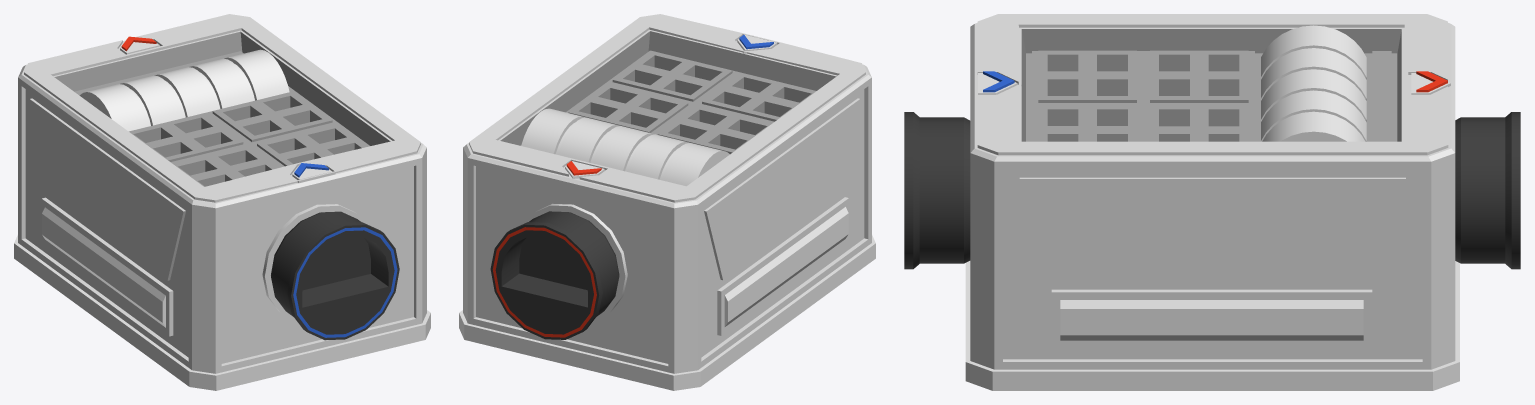
File: MagneticSeperator.fbx
3 views of the same model, side by side, from view 1: azimuth 30°, elevation 25°; view 2: azimuth 150°, elevation 25°; view 3: azimuth 270°, elevation 25° (orthographic). The views are drawn at different scales.
Parts seen in each view (by area): view 1: Magnetic Seperator; view 2: Magnetic Seperator; view 3: Magnetic Seperator.
Boxes of the visible parts, <box> form: Magnetic Seperator: <box>14,14,430,390</box>; Magnetic Seperator: <box>459,14,875,390</box>; Magnetic Seperator: <box>904,14,1520,390</box>.
Bounding box in the file's own units: 56.79 × 42.67 × 100.
